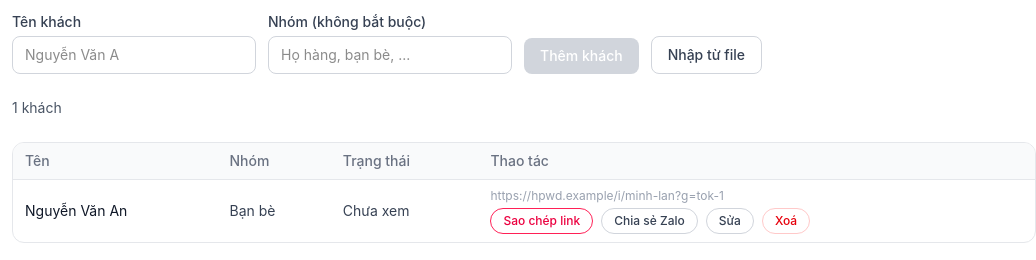
GuestTable › sửa tên/nhóm khách qua form inline rồi PATCH, không đổi token
Click the button "Sửa" at [730, 221], box [706,208,754,234]
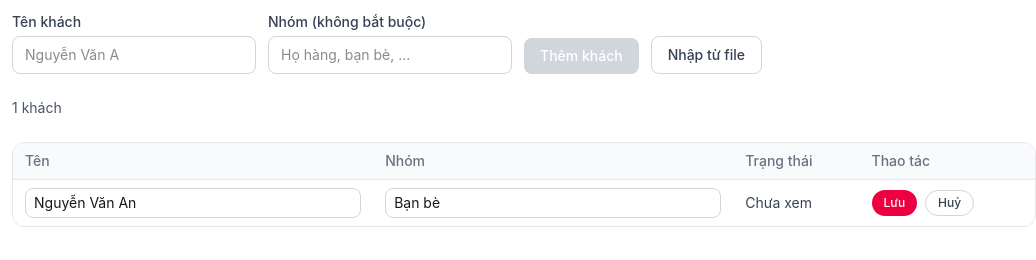
Replace the text in the 1st field showing "Nguyễn Văn An" with "Nguyễn Văn An (đã sửa)" at [193, 203], box [25,188,361,218]
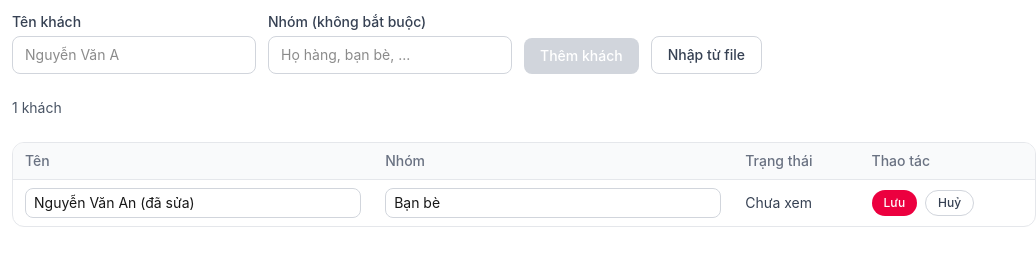
Replace the text in the 2nd field showing "Bạn bè" with "Bạn thân" at [553, 203], box [385,188,721,218]
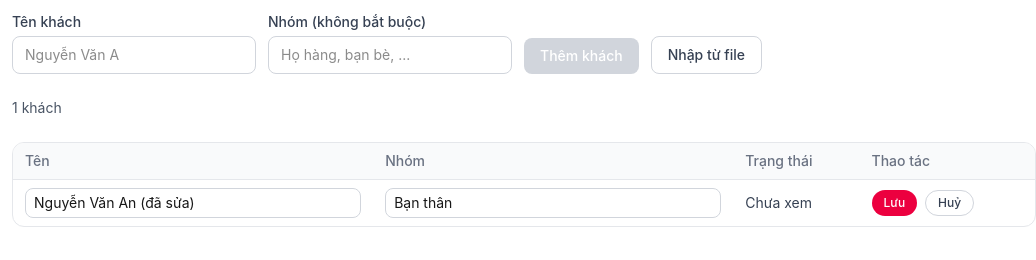
Click the button "Lưu" at [894, 203], box [872,190,917,216]
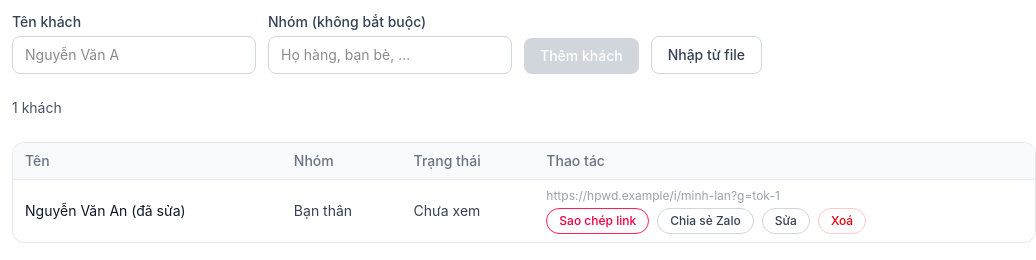
Check: the text "Nguyễn Văn An (đã sửa)" is shown, box [13,180,282,242]
Check: the text "Bạn thân" is shown, box [282,180,402,242]
